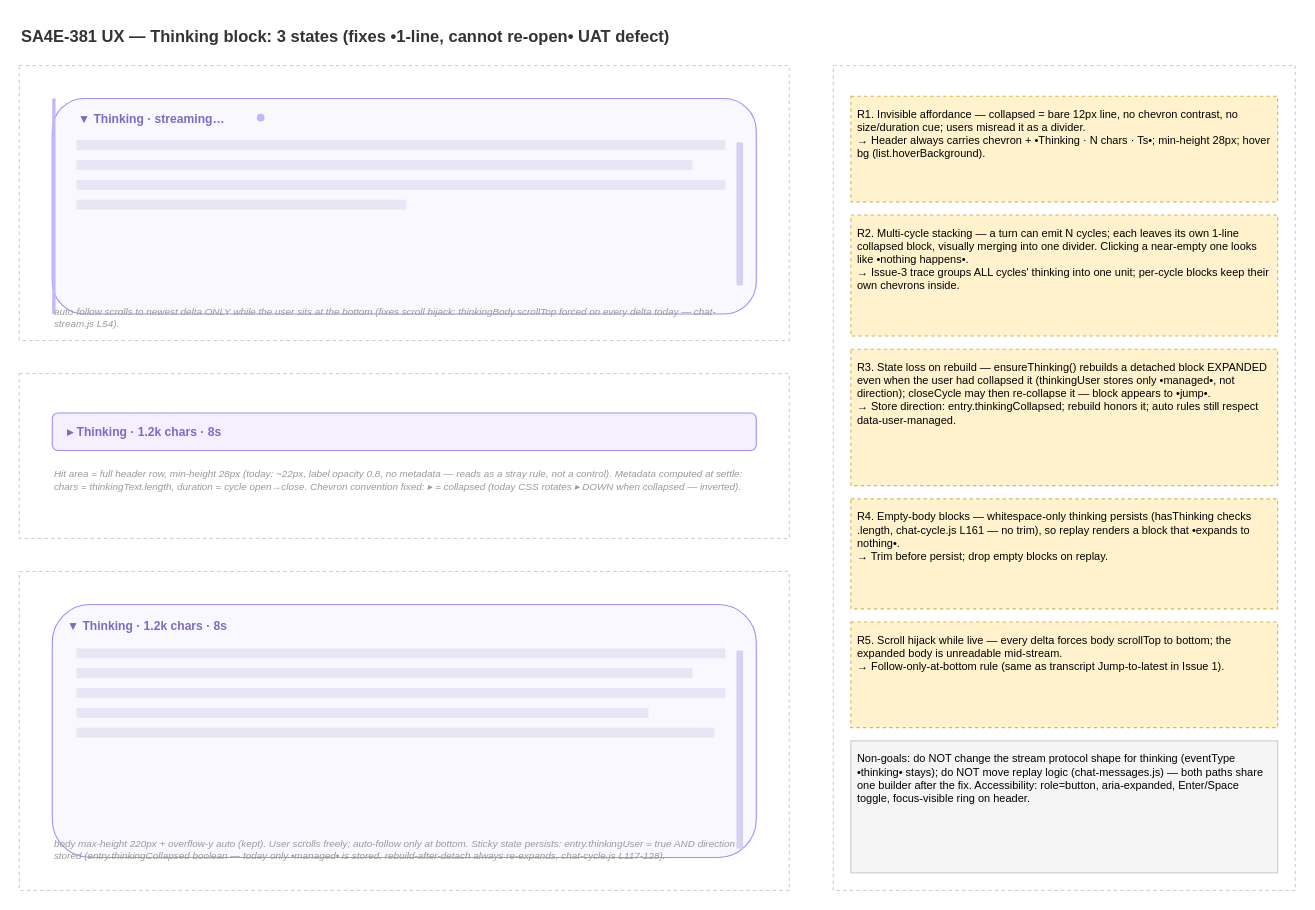
Some shapes in this 1315 by 910 pixel diagram are drawn without their labels. Here are the shapes that lost their labels. From the top down, the box of each, then its label:
(18, 64, 789, 340): State 1 — STREAMING (live, cycle still open)
(18, 372, 789, 538): State 2 — COLLAPSED (settled default; one line WITH affordance)
(832, 64, 1295, 890): Root causes (code evidence) → design responses
(18, 570, 789, 890): State 3 — EXPANDED (user opened, or sticky choice)
